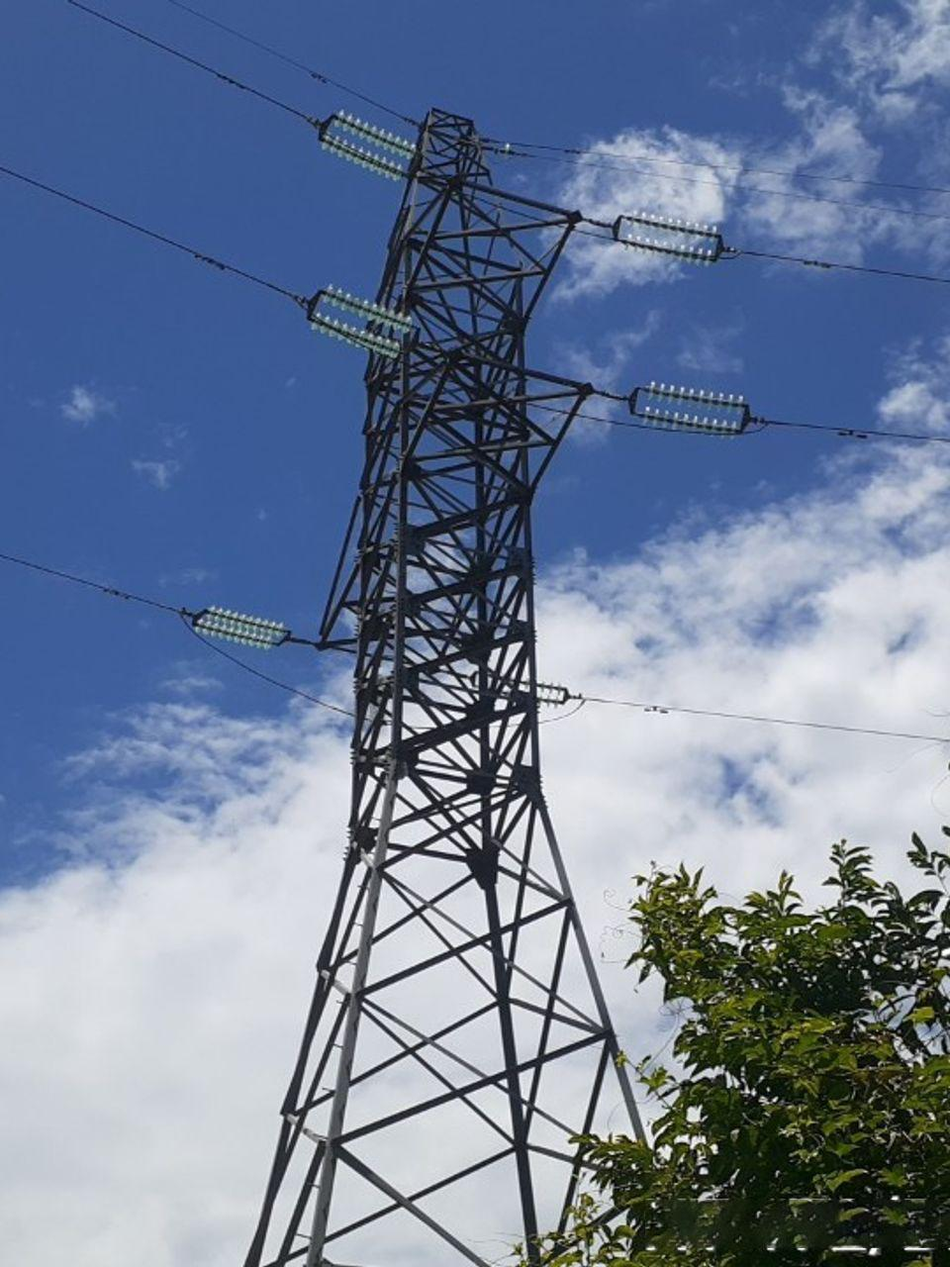tower: (226, 81, 744, 1267)
